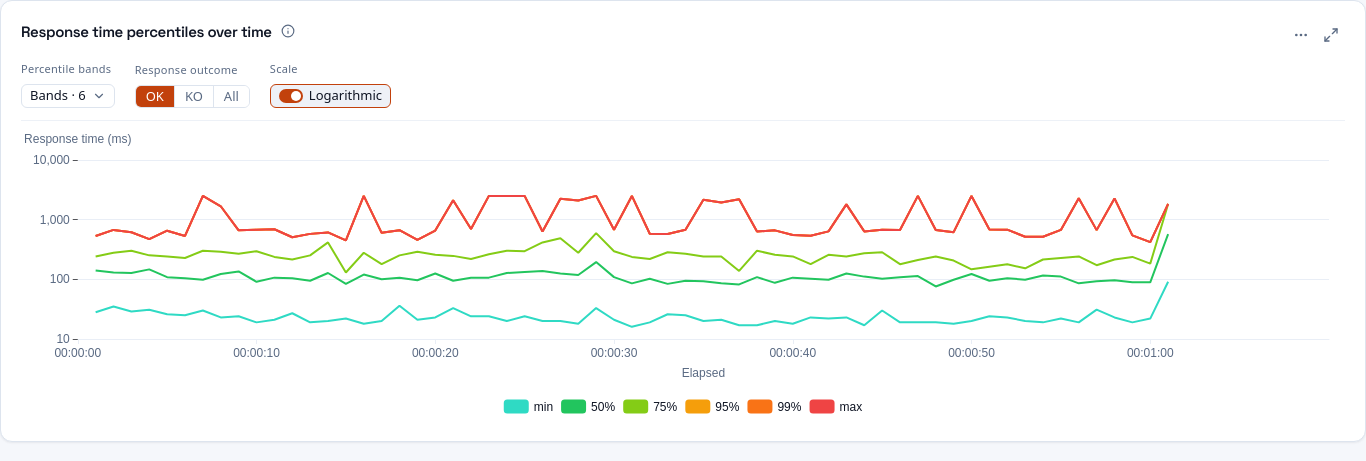
Scenario: BandsMenu › opens one checkbox per band, in band order, reflecting the selection
The image size is (1366, 461).
Click the button "Bands · 6": (68, 96) [21,84,115,108]
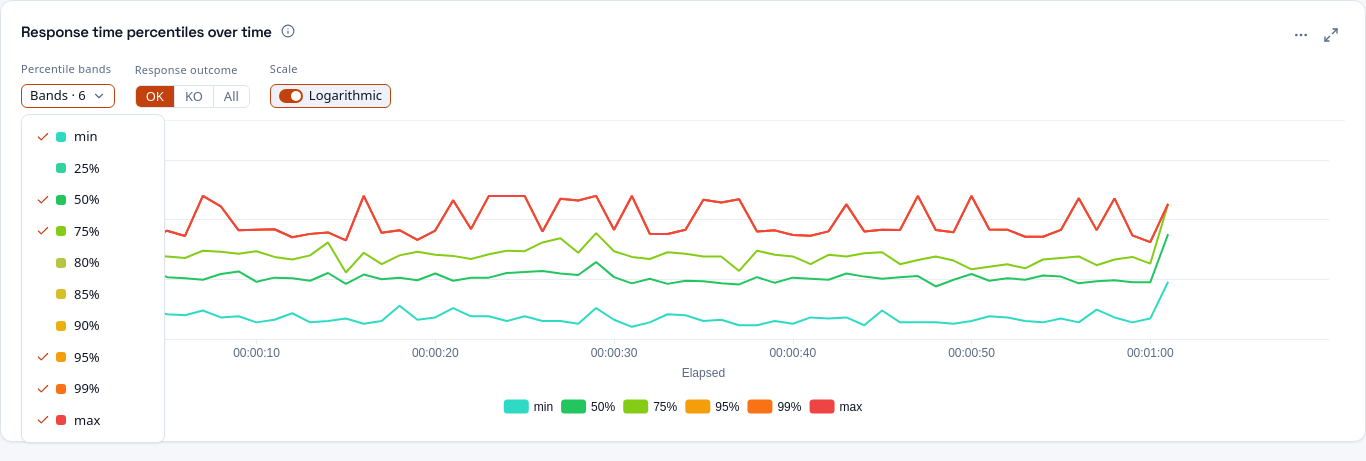
Now the menu is shown, box [21,114,165,443]
